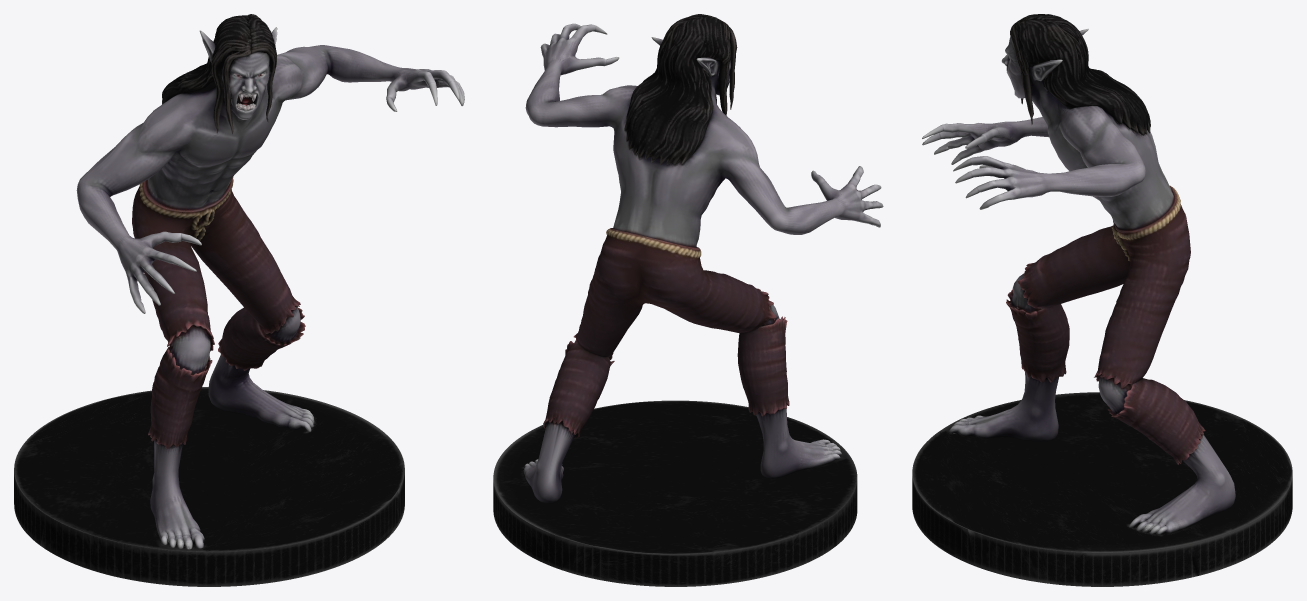
The model's file is MZ4250 - Vampire Spawn Male.glb.
3 renders of one model, left to right at view 1: azimuth 30°, elevation 25°; view 2: azimuth 150°, elevation 25°; view 3: azimuth 270°, elevation 25°, orthographic. The views are drawn at different scales.
Parts seen in each view (by area): view 1: body_low.001, base_low.001; view 2: body_low.001, base_low.001; view 3: body_low.001, base_low.001.
Boxes of the visible parts, left/top/right/bottom form: body_low.001: left=76, top=14, right=464, bottom=549; base_low.001: left=14, top=387, right=404, bottom=586; body_low.001: left=523, top=14, right=883, bottom=503; base_low.001: left=493, top=400, right=857, bottom=586; body_low.001: left=922, top=14, right=1235, bottom=534; base_low.001: left=912, top=392, right=1292, bottom=586.
Bounding box in the file's own units: 4.49 × 5.92 × 4.15.
1 material, 1 textured.
